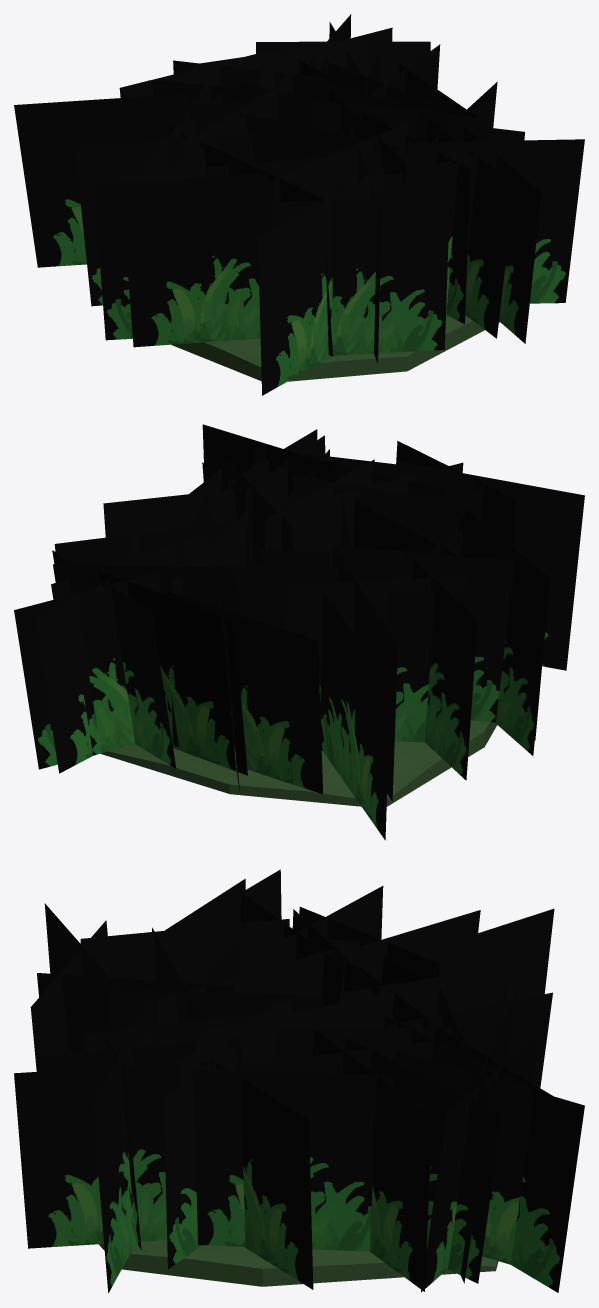
Rendered from grass_patch 1.fbx.
3 renders of one model, top to bottom at view 1: azimuth 30°, elevation 25°; view 2: azimuth 150°, elevation 25°; view 3: azimuth 270°, elevation 25°, orthographic. The views are drawn at different scales.
Visible parts, largest first — view 1: Plane|tall_grass_texture|Dupli|41, Plane|tall_grass_texture|Dupli|43, Plane|tall_grass_texture|Dupli|44, Plane|tall_grass_texture|Dupli|16, Plane|tall_grass_texture|Dupli|23, Plane|tall_grass_texture|Dupli|22, Plane|tall_grass_texture|Dupli|13, Plane|tall_grass_texture|Dupli|40, Plane, Plane|tall_grass_texture|Dupli|35, Plane|tall_grass_texture|Dupli|42, Plane|tall_grass_texture|Dupli| (+24 smaller); view 2: Plane|tall_grass_texture|Dupli|39, Plane|tall_grass_texture|Dupli|36, Plane|tall_grass_texture|Dupli|16, Plane|tall_grass_texture|Dupli|29, Plane|tall_grass_texture|Dupli|44, Plane, Plane|tall_grass_texture|Dupli|13, Plane|tall_grass_texture|Dupli|40, Plane|tall_grass_texture|Dupli|14, Plane|tall_grass_texture|Dupli|30, Plane|tall_grass_texture|Dupli|33, Plane|tall_grass_texture|Dupli|15 (+28 smaller); view 3: Plane|tall_grass_texture|Dupli|26, Plane|tall_grass_texture|Dupli|42, Plane|tall_grass_texture|Dupli|27, Plane|tall_grass_texture|Dupli|24, Plane|tall_grass_texture|Dupli|29, Plane|tall_grass_texture|Dupli|32, Plane|tall_grass_texture|Dupli|33, Plane, Plane|tall_grass_texture|Dupli|23, Plane|tall_grass_texture|Dupli|17, Plane|tall_grass_texture|Dupli|16, Plane|tall_grass_texture|Dupli|28 (+32 smaller).
Boxes of the visible parts, x1,y1,x2,y2 form: Plane|tall_grass_texture|Dupli|41: (122, 179, 298, 347); Plane|tall_grass_texture|Dupli|43: (271, 193, 449, 355); Plane|tall_grass_texture|Dupli|44: (258, 166, 384, 395); Plane|tall_grass_texture|Dupli|16: (14, 93, 188, 267); Plane|tall_grass_texture|Dupli|23: (405, 139, 584, 303); Plane|tall_grass_texture|Dupli|22: (425, 119, 514, 338); Plane|tall_grass_texture|Dupli|13: (75, 133, 254, 306); Plane|tall_grass_texture|Dupli|40: (94, 173, 272, 340); Plane: (171, 315, 499, 381); Plane|tall_grass_texture|Dupli|35: (69, 101, 246, 153); Plane|tall_grass_texture|Dupli|42: (463, 126, 541, 343); Plane|tall_grass_texture|Dupli|: (239, 112, 398, 162); Plane|tall_grass_texture|Dupli|39: (168, 591, 322, 794); Plane|tall_grass_texture|Dupli|36: (97, 570, 247, 775); Plane|tall_grass_texture|Dupli|16: (320, 591, 390, 840); Plane|tall_grass_texture|Dupli|29: (14, 564, 188, 769); Plane|tall_grass_texture|Dupli|44: (397, 461, 584, 670); Plane: (100, 720, 496, 806); Plane|tall_grass_texture|Dupli|13: (386, 536, 477, 780); Plane|tall_grass_texture|Dupli|40: (457, 511, 547, 755); Plane|tall_grass_texture|Dupli|14: (329, 545, 514, 722); Plane|tall_grass_texture|Dupli|30: (52, 550, 176, 768); Plane|tall_grass_texture|Dupli|33: (35, 548, 171, 773); Plane|tall_grass_texture|Dupli|15: (379, 590, 464, 742); Plane|tall_grass_texture|Dupli|26: (190, 1068, 393, 1251); Plane|tall_grass_texture|Dupli|42: (14, 1061, 214, 1248); Plane|tall_grass_texture|Dupli|27: (211, 1059, 313, 1289); Plane|tall_grass_texture|Dupli|24: (313, 1029, 432, 1291); Plane|tall_grass_texture|Dupli|29: (433, 1026, 583, 1292); Plane|tall_grass_texture|Dupli|32: (343, 1037, 502, 1283); Plane|tall_grass_texture|Dupli|33: (395, 1050, 584, 1264); Plane: (99, 1240, 498, 1286); Plane|tall_grass_texture|Dupli|23: (92, 998, 153, 1293); Plane|tall_grass_texture|Dupli|17: (80, 919, 289, 983); Plane|tall_grass_texture|Dupli|16: (424, 908, 554, 1001); Plane|tall_grass_texture|Dupli|28: (163, 1015, 278, 1269).
Bounding box in the file's own units: 580 × 260 × 584.
Materials: 2 (1 with a texture image).
